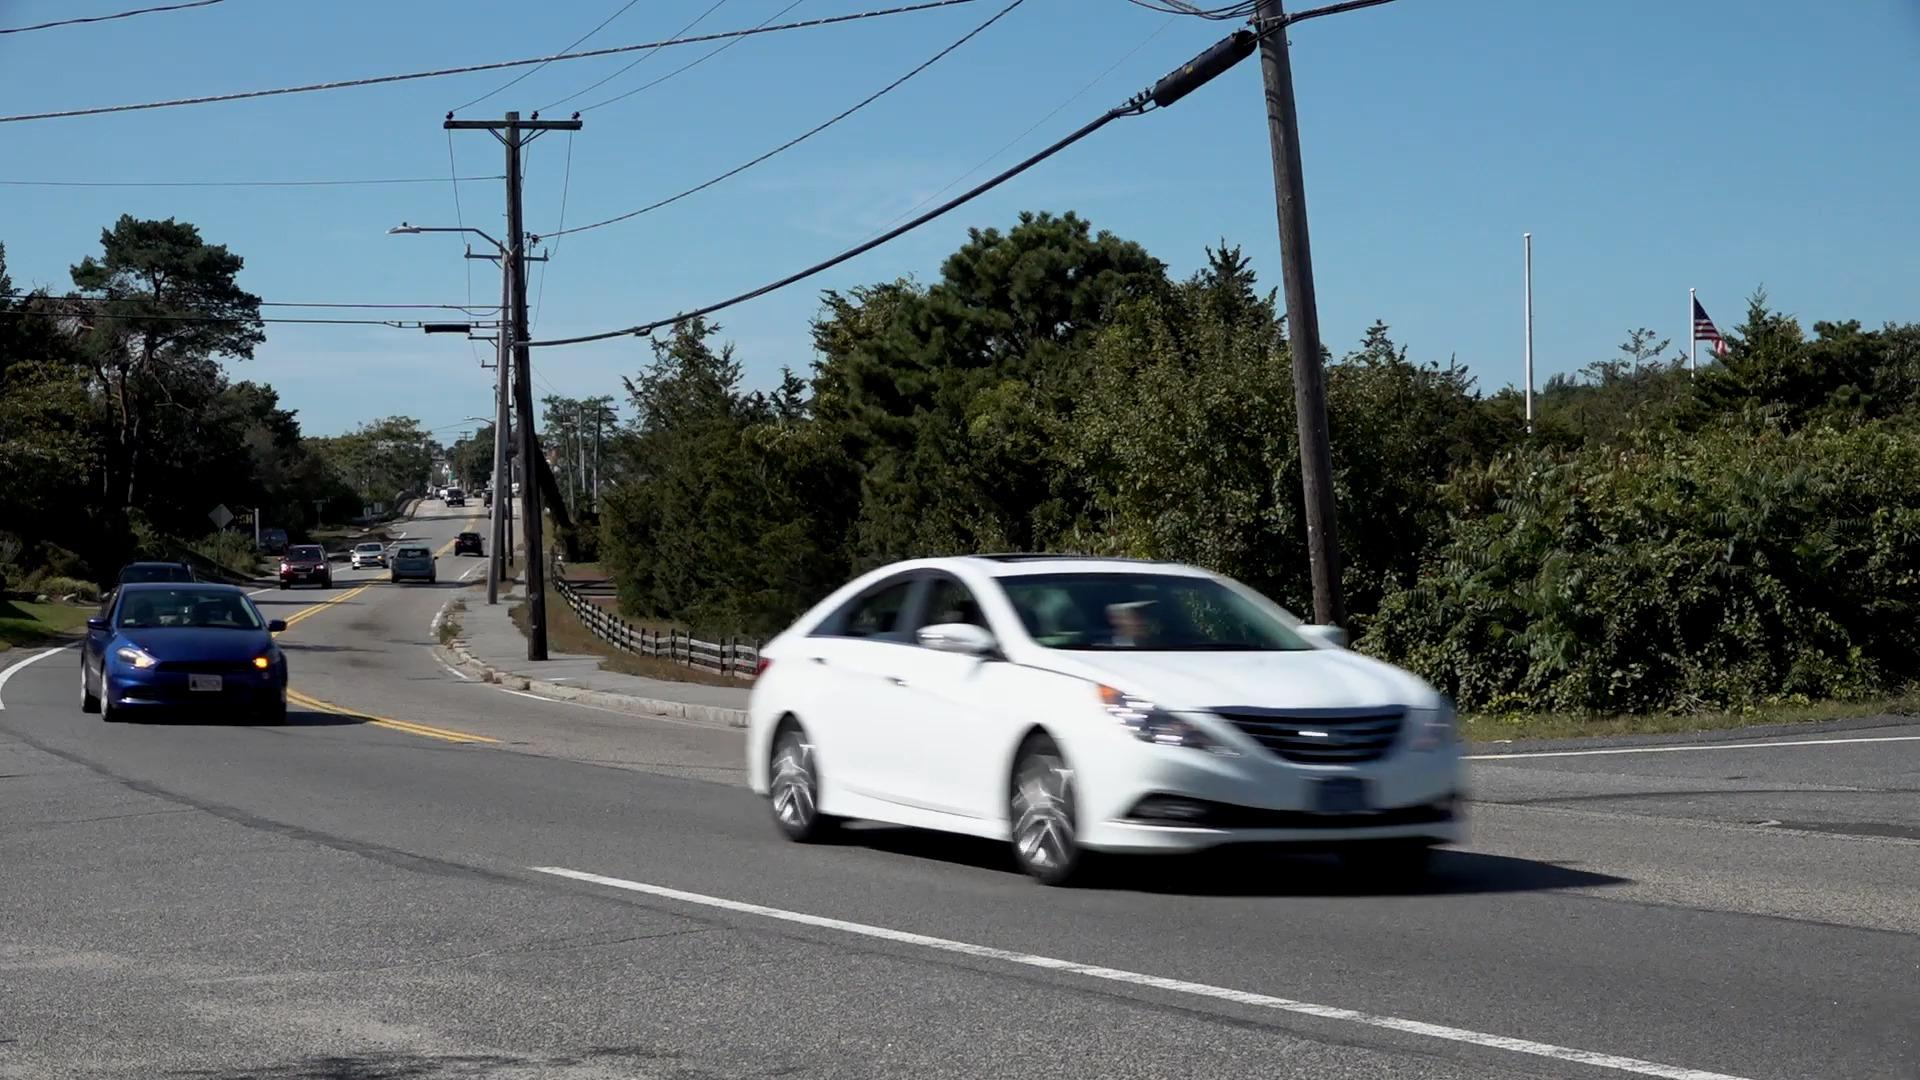sedans: (746, 555, 1470, 898), (82, 575, 290, 731)
